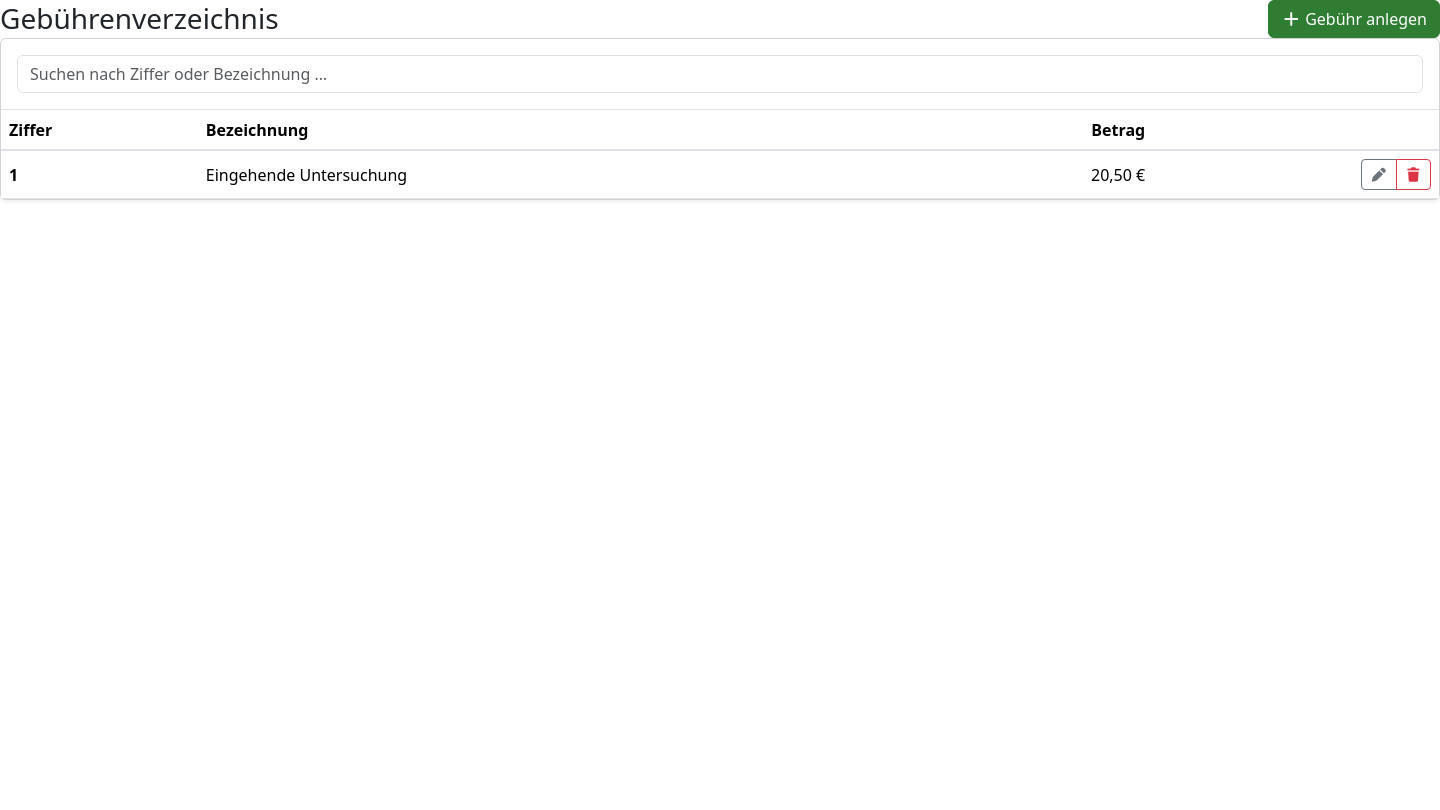
Test case: Gebührenverzeichnis › sollte eine Gebühr ändern
Click the button named "Gebühr 1 bearbeiten" at (1379, 174), box [1361, 159, 1396, 190]
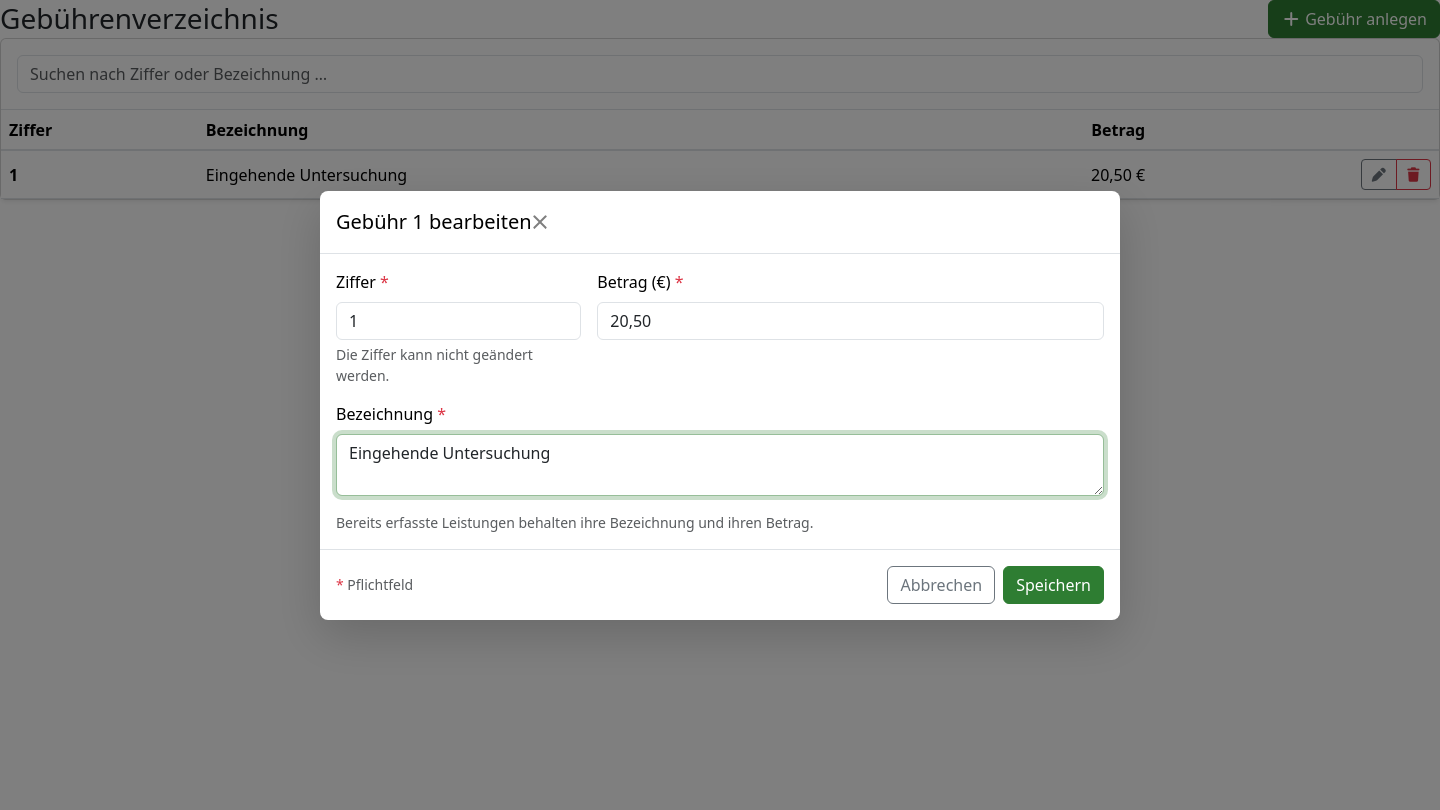
Expected: the field labelled "Betrag (€)" holds "20,50"
Replace the text in the field labelled "Betrag (€)" with "23" at (851, 320), box [597, 302, 1104, 340]
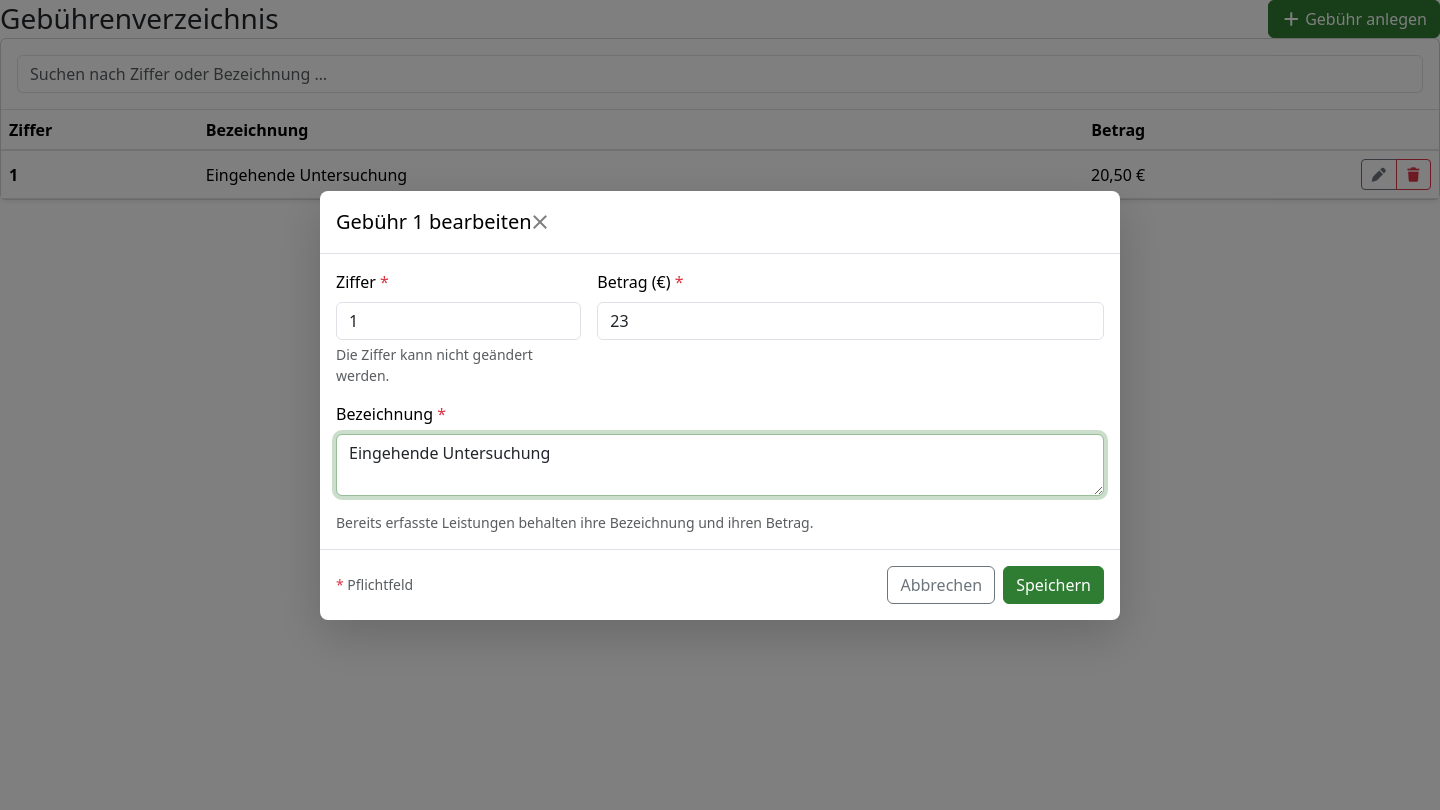
Click the button "Speichern" at (1054, 584), box [1003, 566, 1104, 604]
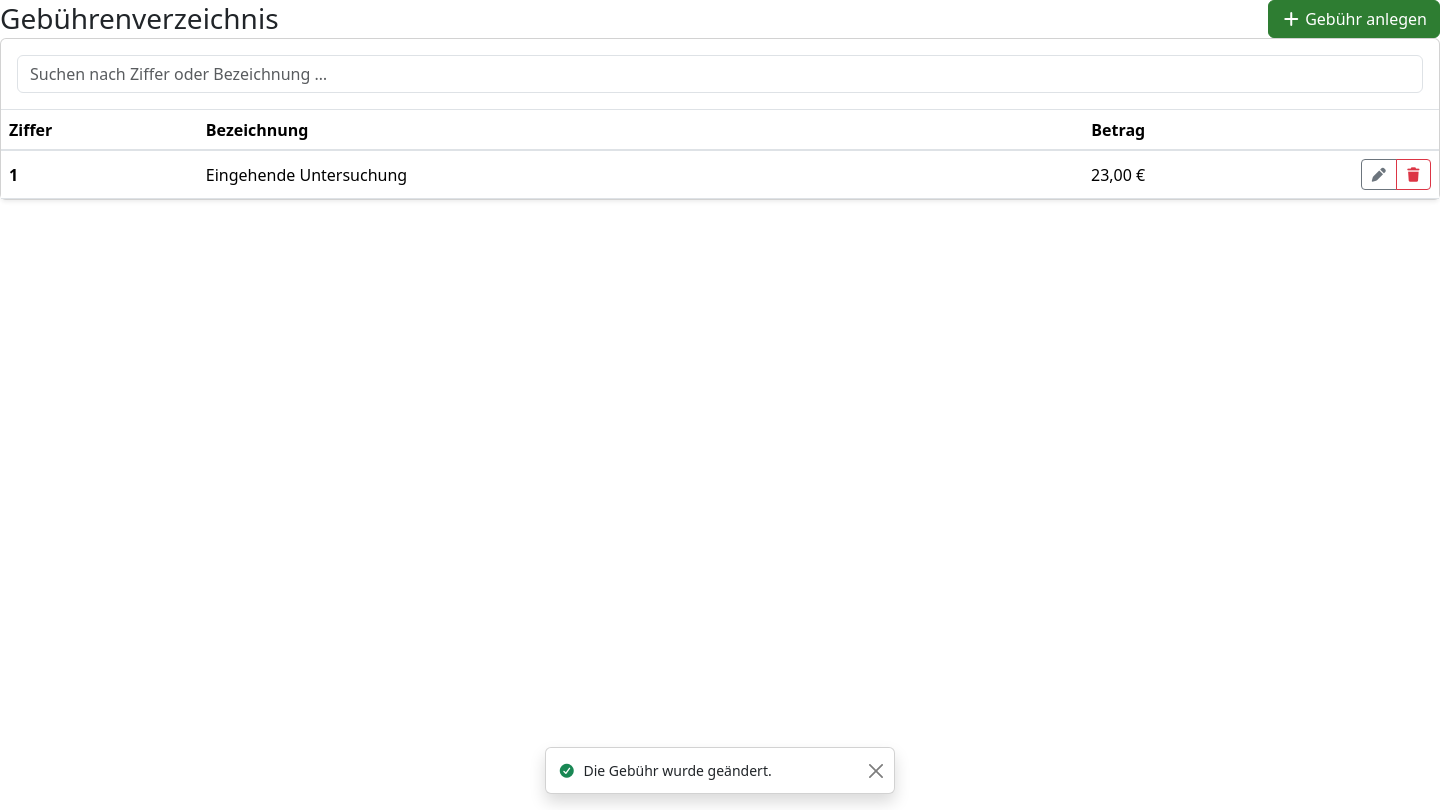
Expected: the text "Die Gebühr wurde geändert." is shown, [558, 761, 772, 780]
